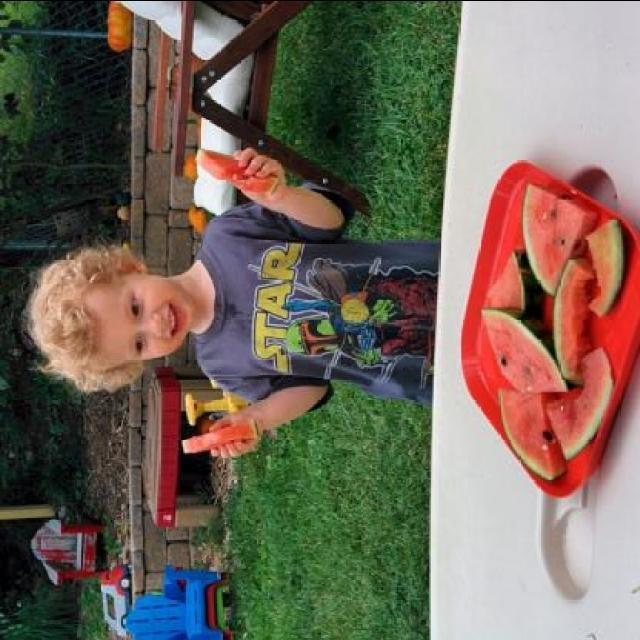Watermelon: (484, 182, 628, 484), (194, 147, 278, 196), (183, 419, 259, 455)
